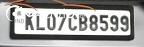0: (45, 11, 55, 29)
5: (98, 13, 108, 30)
7: (56, 12, 66, 30)
8: (88, 13, 98, 31)
9: (118, 13, 129, 31), (108, 13, 118, 31)
B: (77, 12, 87, 31)
C: (66, 12, 77, 30)
K: (23, 11, 34, 30)
L: (33, 13, 45, 30)
